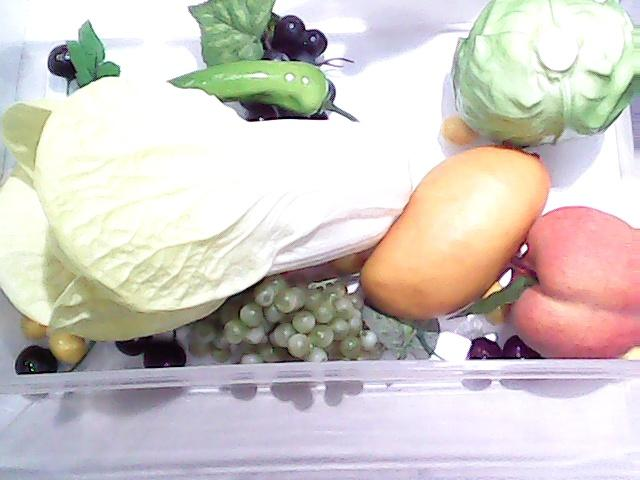cabbage: (448, 0, 640, 172)
grape: (183, 269, 447, 363), (190, 0, 330, 120)
mango: (363, 144, 551, 328)
napa cabbage: (0, 55, 404, 352)
peach: (506, 204, 640, 360)
pepper: (166, 55, 370, 121)
